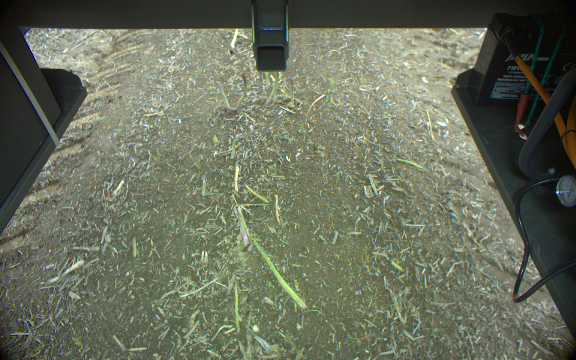aspa: (248, 239, 307, 310), (235, 208, 252, 249), (235, 73, 249, 112), (264, 71, 279, 107), (215, 79, 230, 109), (286, 78, 296, 104), (263, 71, 270, 91)
